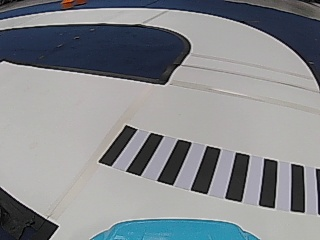CrossWalk: (102, 128, 316, 211)
